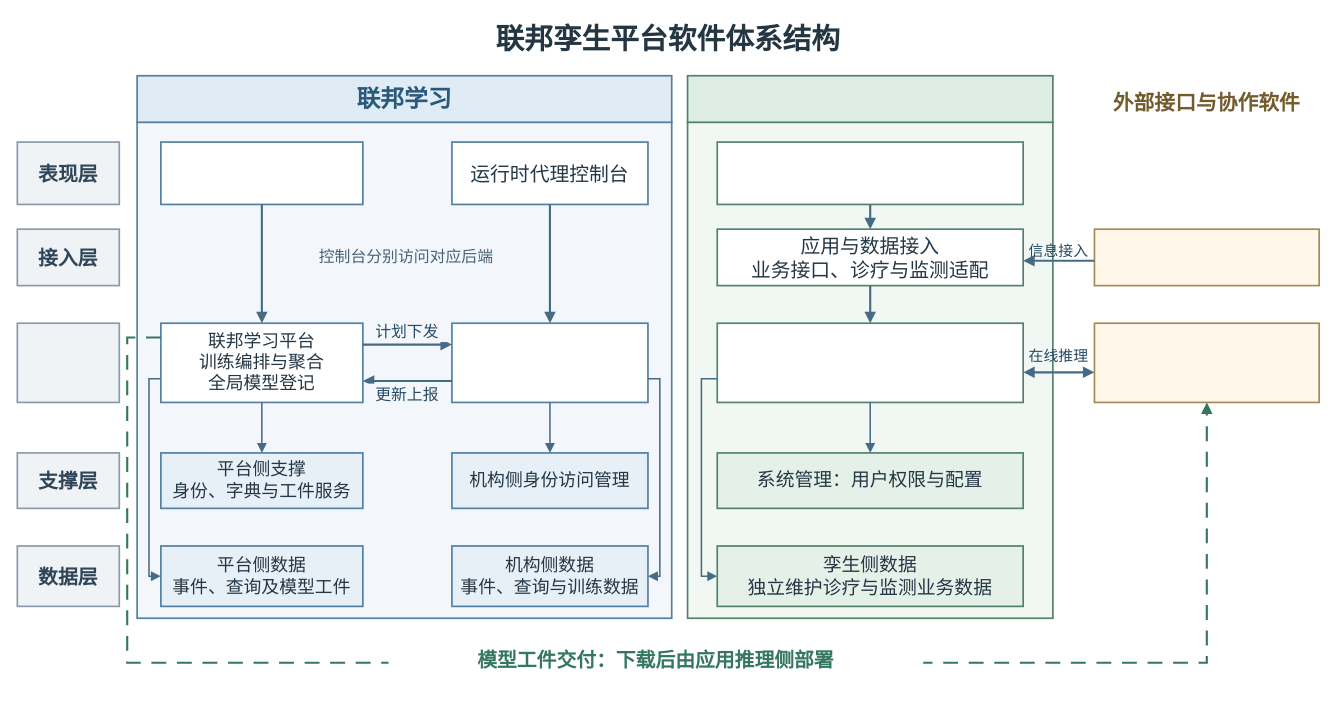
The diagram is 1337 pixels wide and 701 high, and some of its shapes have lost their labels. The shapes that lost their labels are listed below. From the top down, each one's centre as x and y in pixels, then its label:
(x=869, y=98): 机构侧孪生应用
(x=261, y=173): 联邦学习平台侧 控制台
(x=870, y=173): 医疗数字人与风险评估界面 系统管理界面
(x=1206, y=257): 院内诊疗系统 项目监测与可穿戴设备
(x=68, y=362): 应用层
(x=549, y=362): 参与机构侧 运行时代理与本地训练
(x=870, y=362): 医疗数字人 / 风险动态评估与管理 患者状态展示、风险研判与预警
(x=1206, y=362): 应用模型推理 按场景调用云端或本地模型
